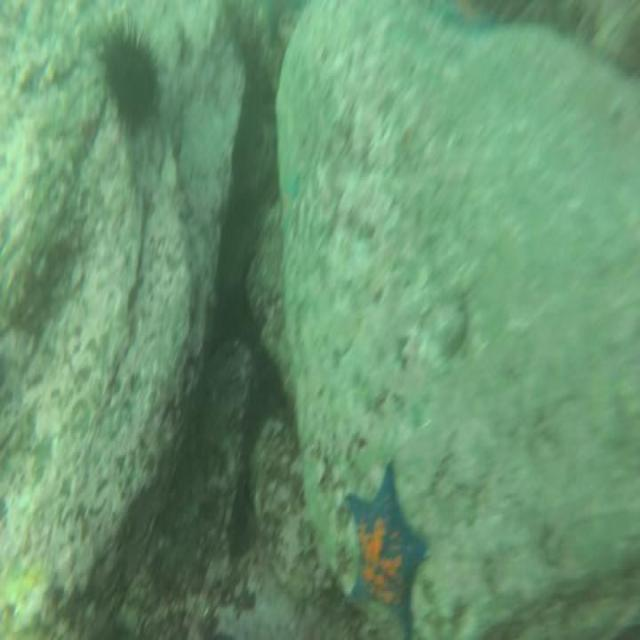echinus: (94, 13, 164, 145)
starfish: (341, 463, 432, 640)
